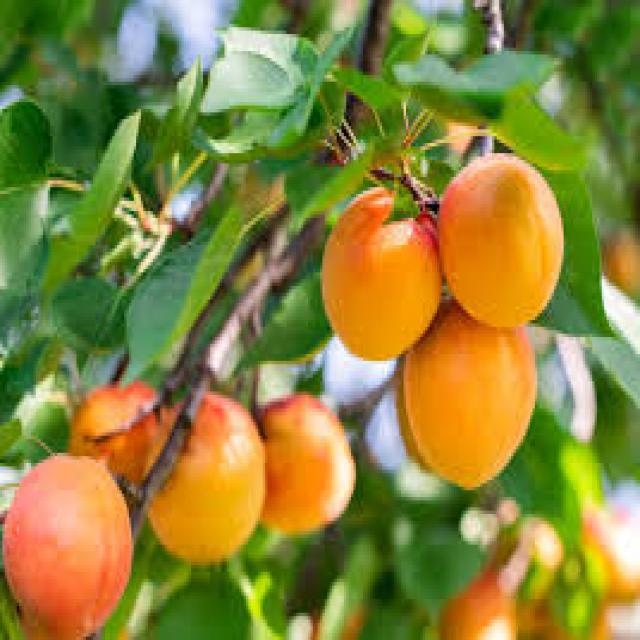kayisi: (312, 150, 584, 504), (17, 362, 302, 626)
kayisi-yapragi: (11, 70, 292, 312)
